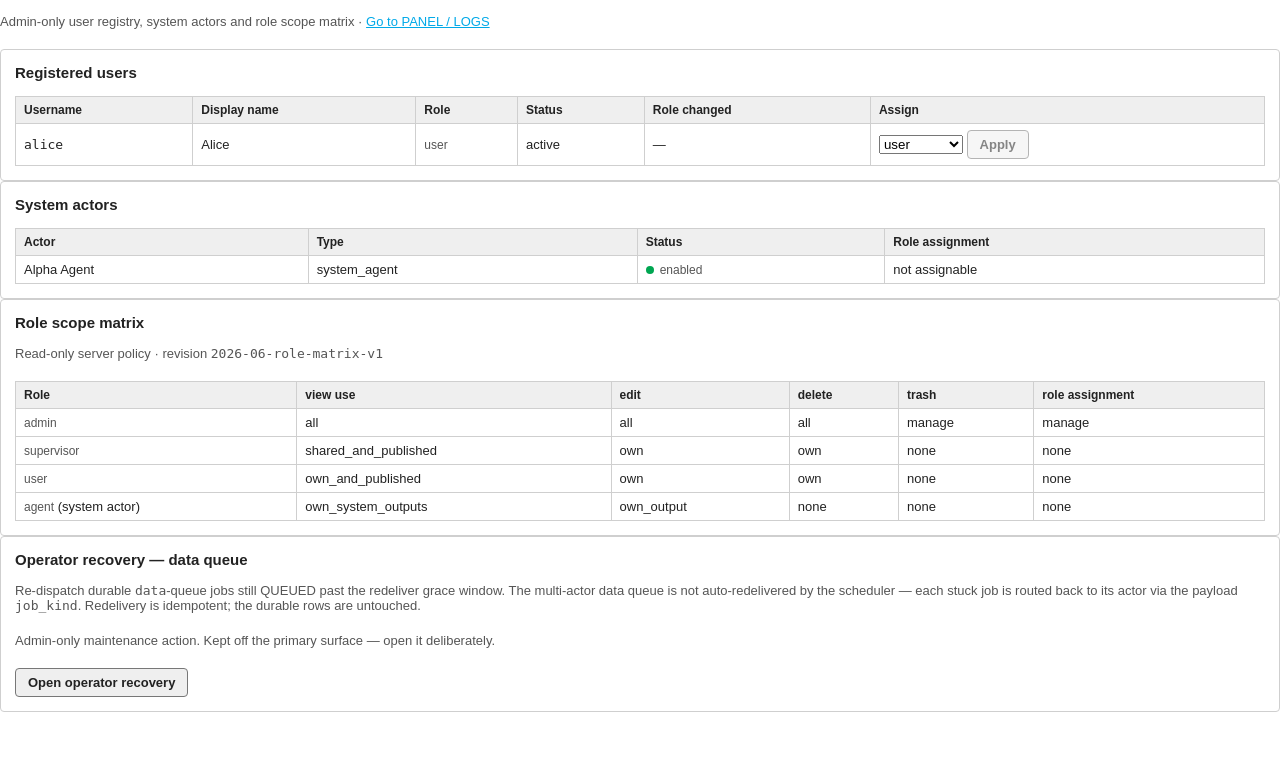
it: Panel / Management page › sweeps every queued data job with grace_seconds=0 and shows the empty result
The width and height of the screenshot is (1280, 781).
expect the text "alice" is shown: met, box [24,137,63,152]
Click the button "Open operator recovery" at {"x": 102, "y": 682}, box [15,668,188,697]
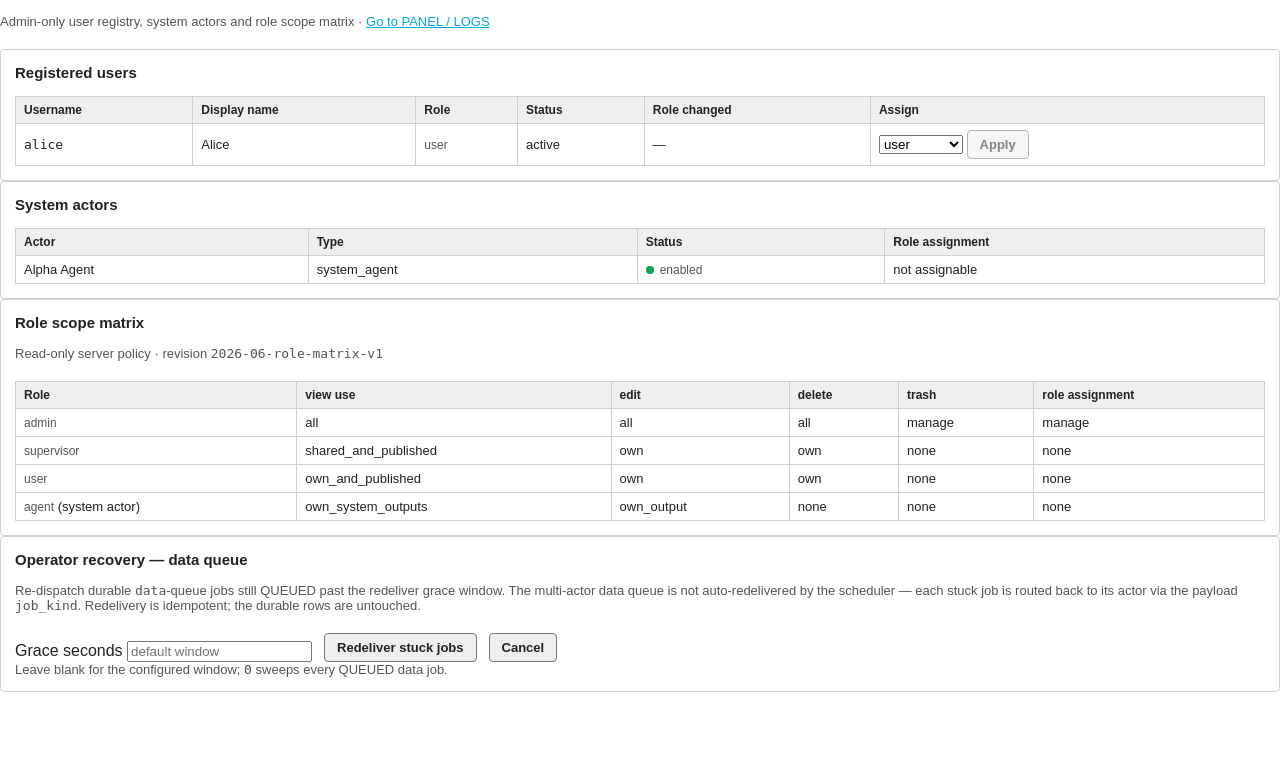
Type "0" into the field labelled "Grace seconds" at {"x": 220, "y": 652}, box [127,641,312,662]
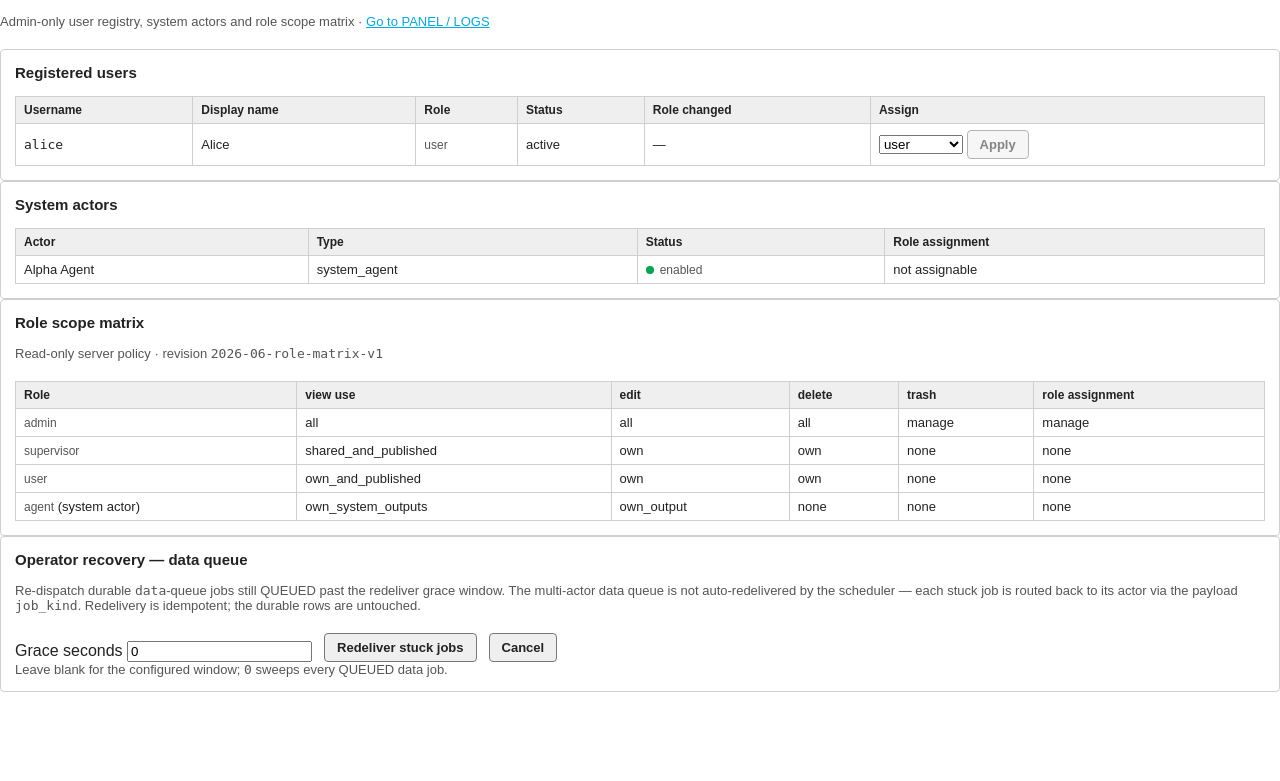
Click the button "Redeliver stuck jobs" at {"x": 400, "y": 648}, box [324,633,477,662]
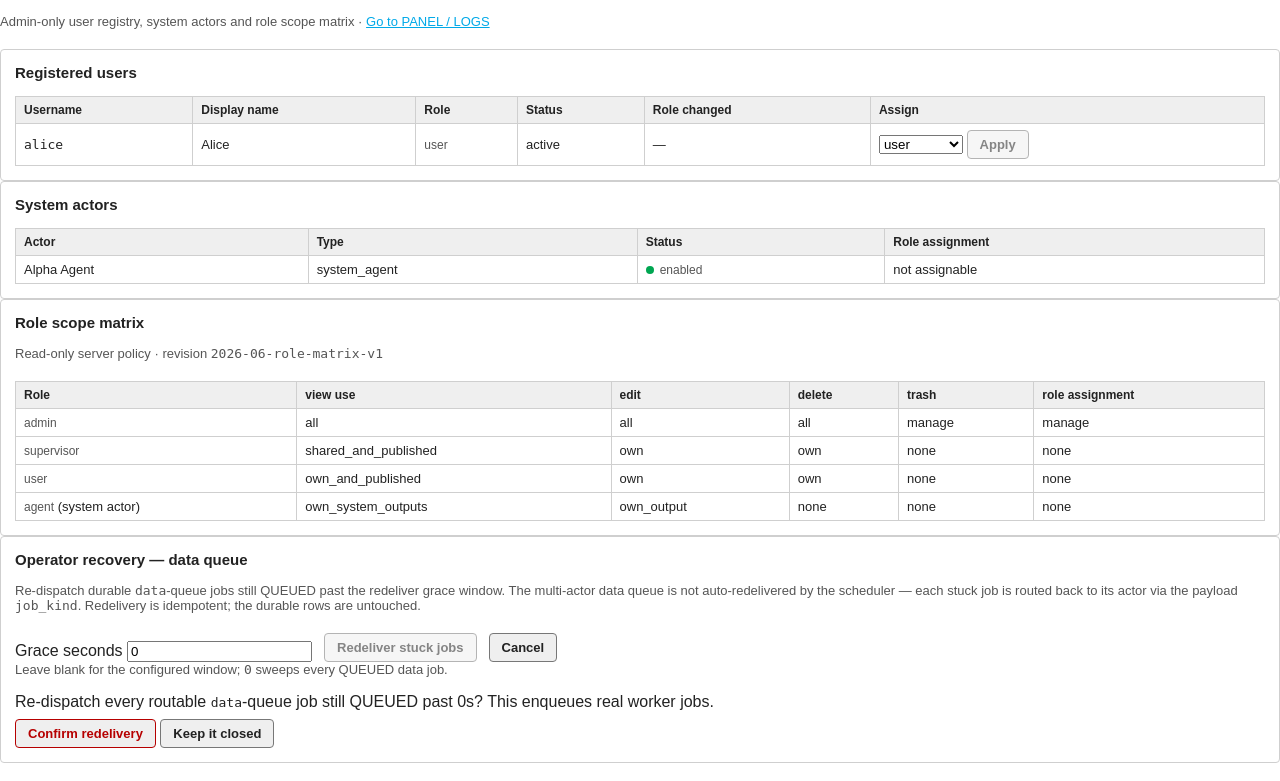
Click the button "Confirm redelivery" at {"x": 85, "y": 734}, box [15,719,156,748]
(page scrolled)
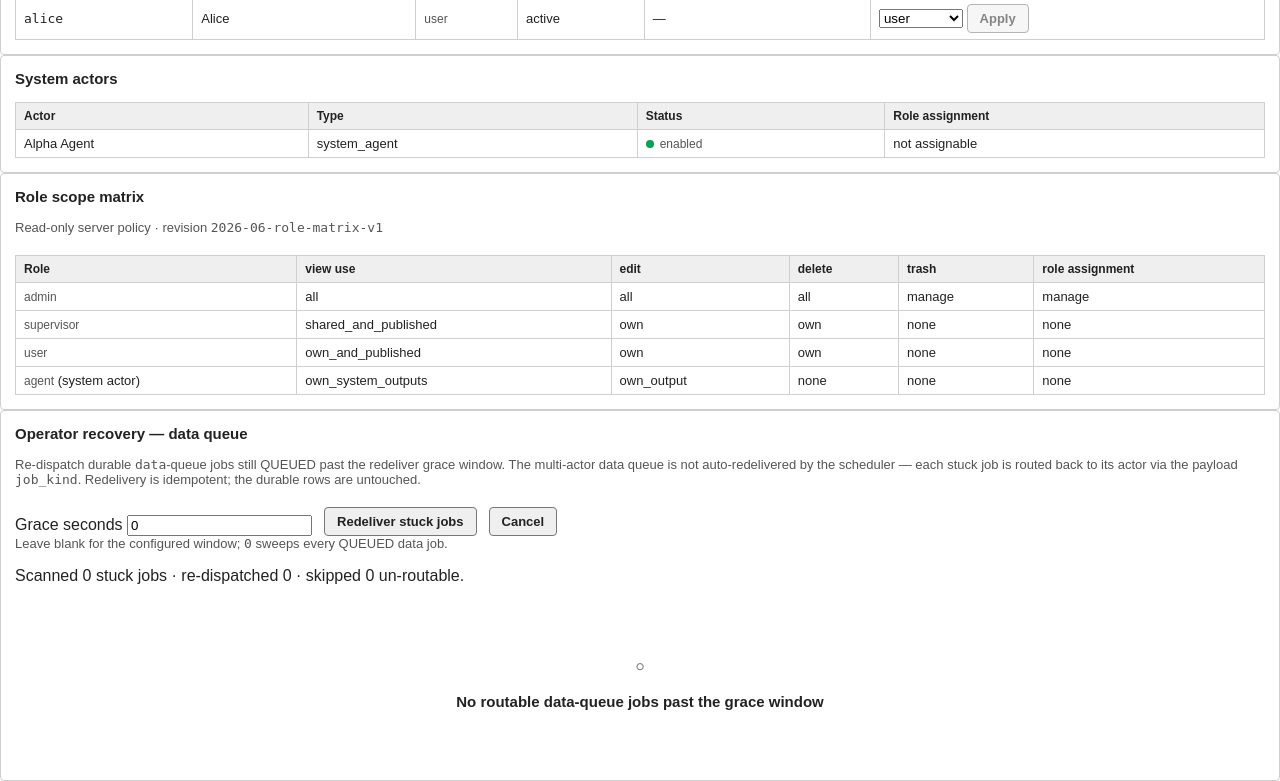
expect the heading "No routable data-queue jobs past the grace window" is shown: met, box [456,693,824,710]
